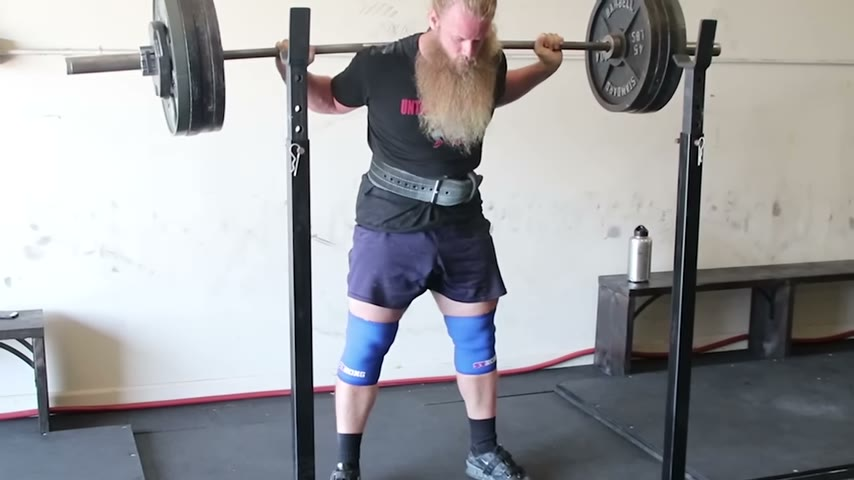barbell_plate_side: (662, 0, 722, 130)
